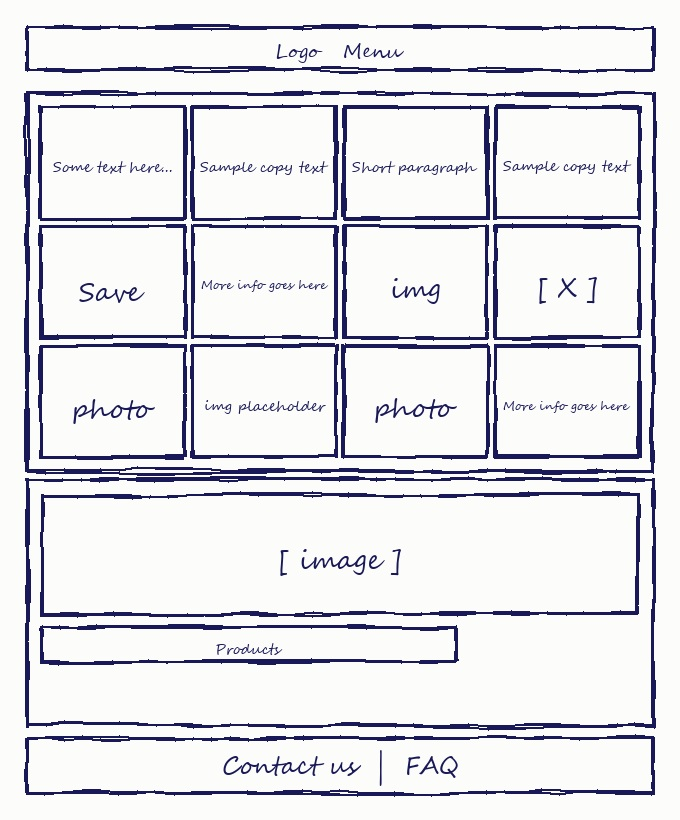card: (42, 495, 638, 614), (41, 226, 184, 338), (193, 226, 336, 338), (344, 226, 487, 338), (496, 226, 639, 338), (41, 107, 184, 218), (193, 107, 336, 218), (344, 107, 487, 218), (496, 107, 639, 218), (41, 346, 184, 457), (193, 346, 336, 457), (344, 346, 487, 457), (496, 346, 639, 457), (42, 628, 456, 661)
footer: (27, 738, 653, 793)
navbar: (27, 27, 653, 70)
section: (27, 93, 653, 471), (27, 480, 653, 726)
